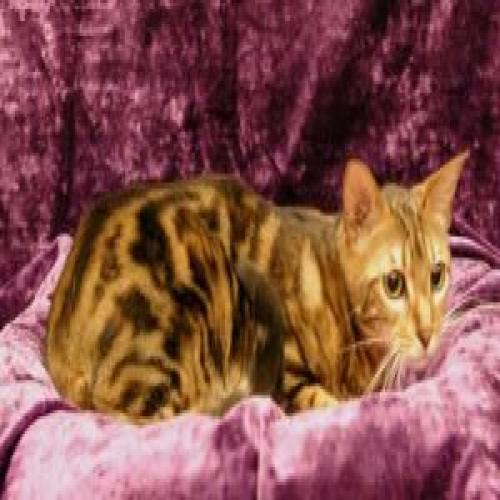bengal: (338, 141, 473, 394)
